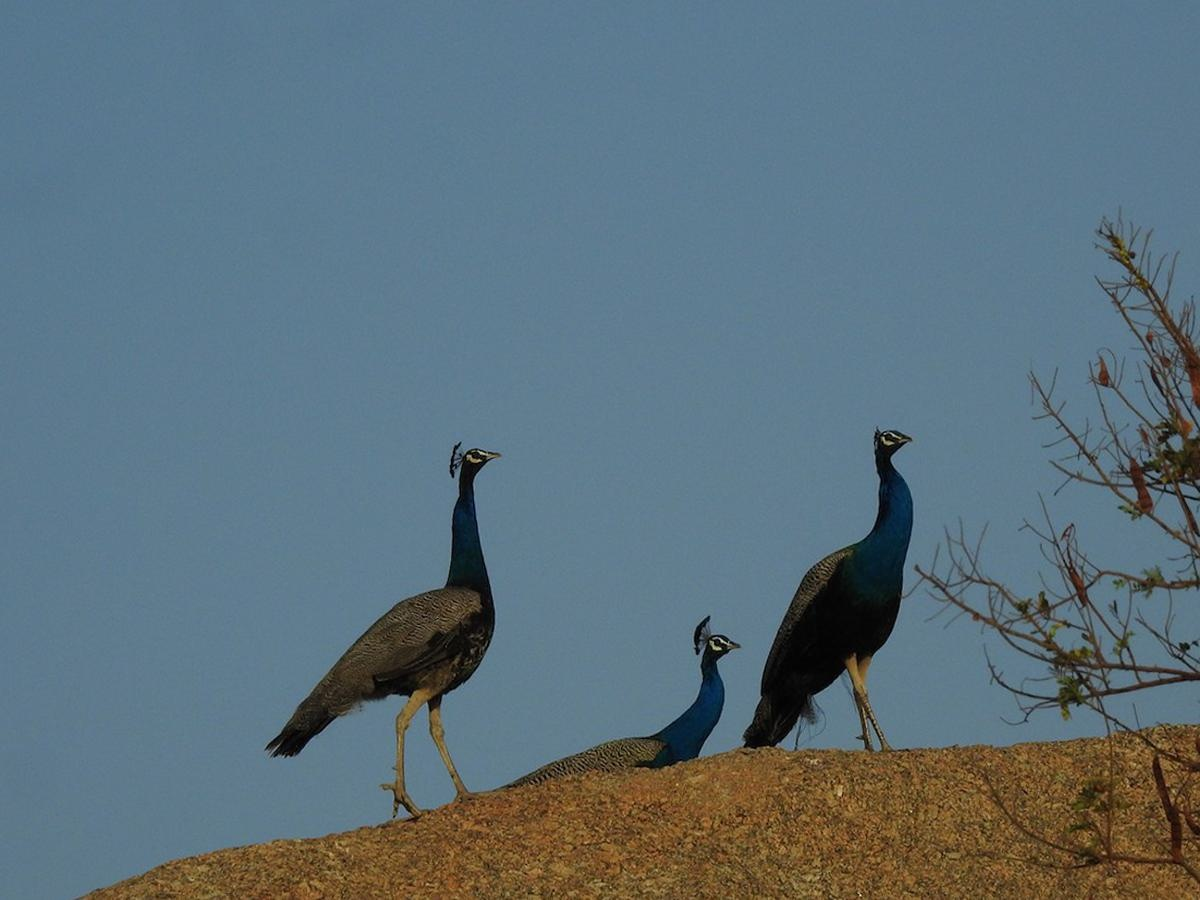peacock: (227, 387, 516, 838), (766, 388, 915, 807), (496, 601, 746, 818)
